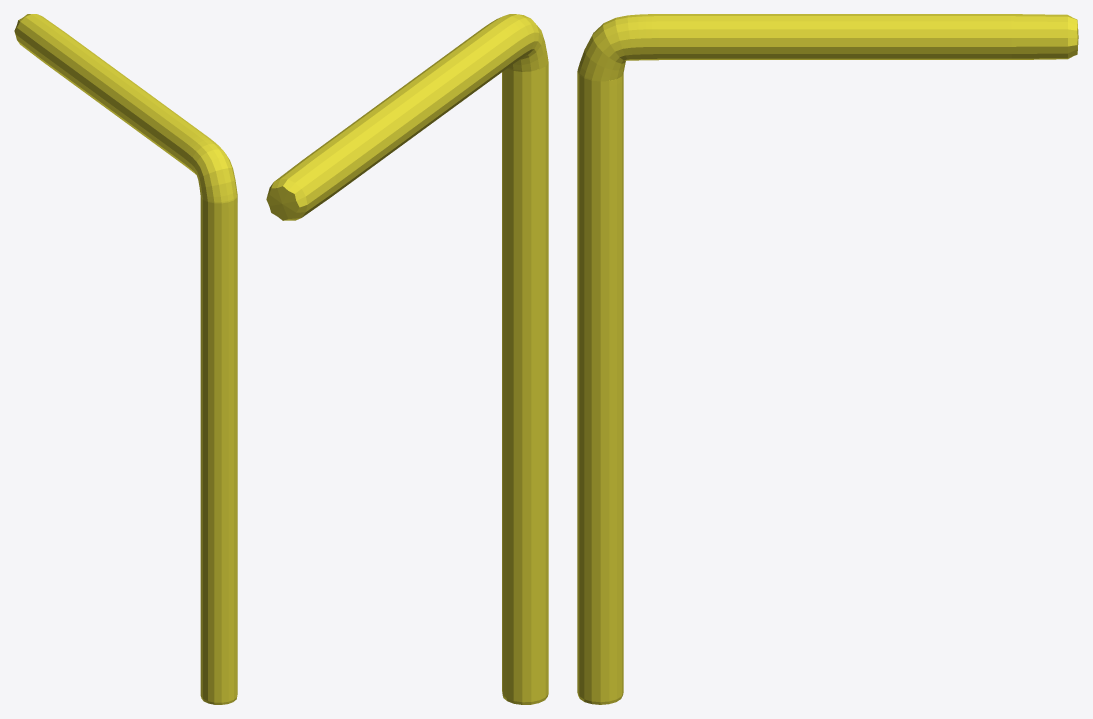
The model's file is WireCorner.fbx.
The picture shows the model from 3 angles, left to right: view 1: azimuth 30°, elevation 25°; view 2: azimuth 150°, elevation 25°; view 3: azimuth 270°, elevation 25°; orthographic projection. The views are drawn at different scales.
Parts seen in each view (by area): view 1: Wire90; view 2: Wire90; view 3: Wire90.
Part boxes in pixels (x1,y1,x2,y2): Wire90: (14,14,237,704); Wire90: (266,14,548,704); Wire90: (577,14,1078,704).
Size of the model in its own units: 0.5775 by 9.36 by 6.26.
